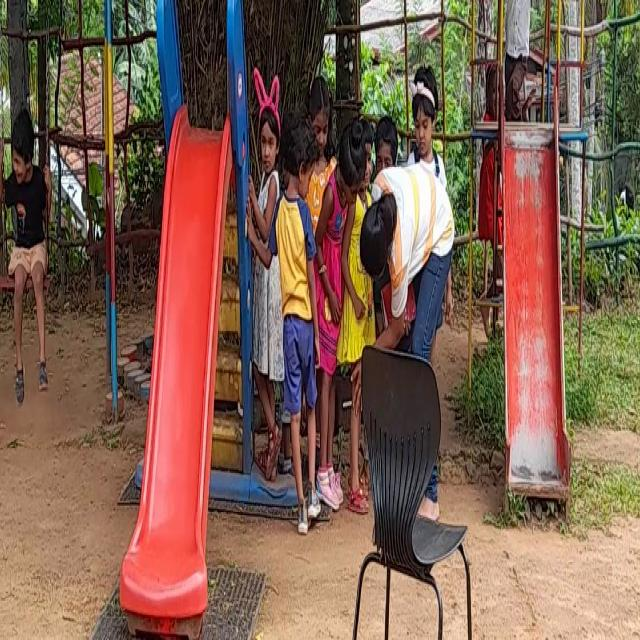child: (316, 126, 367, 508), (1, 95, 52, 405), (249, 73, 287, 470), (285, 139, 318, 520), (504, 0, 542, 112)
